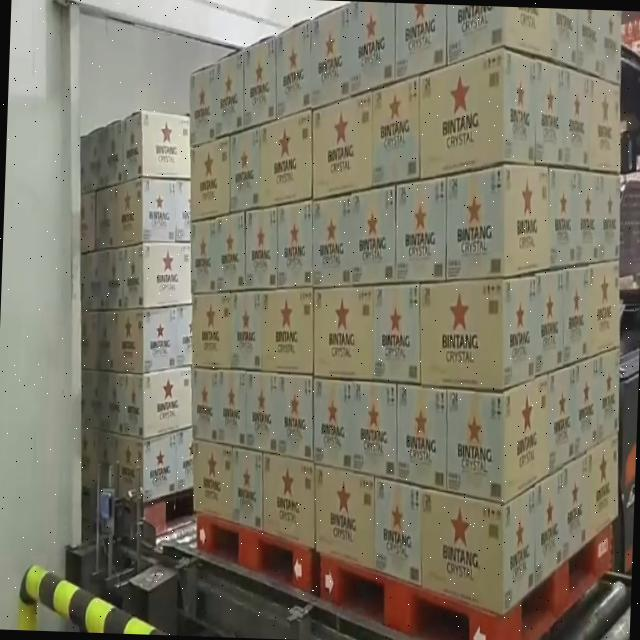pallet: (303, 1, 638, 640), (170, 7, 336, 603), (57, 94, 205, 539)
